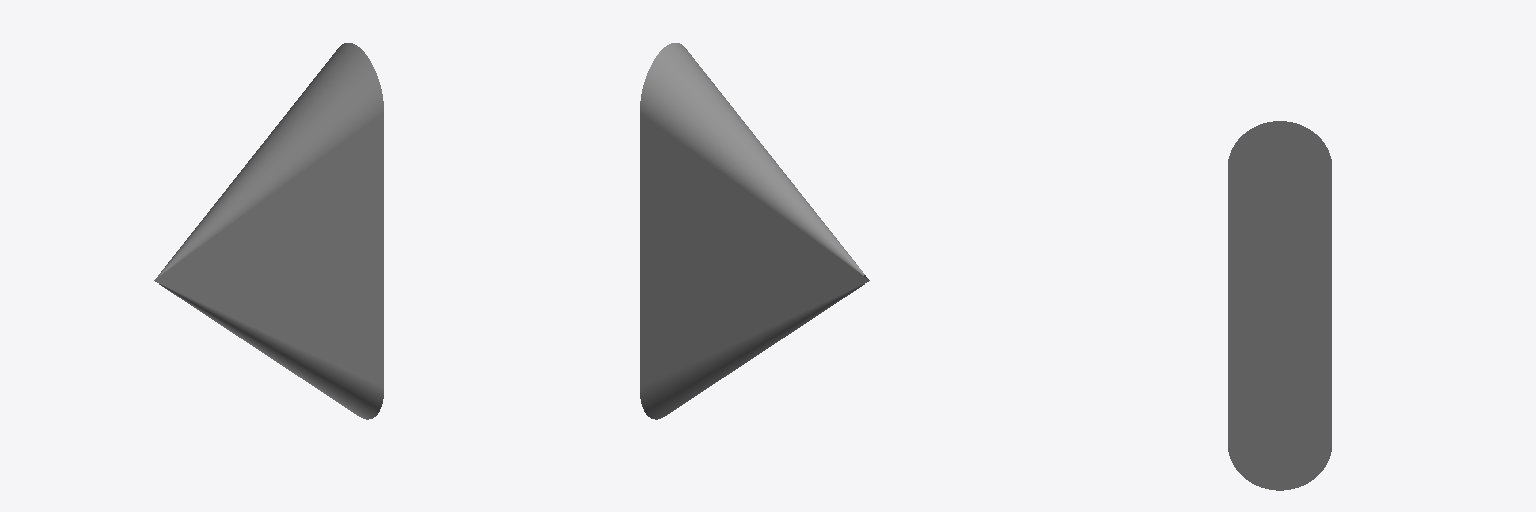
The model's file is horizon-fov.obj.
3 views of the same model, side by side, from view 1: azimuth 30°, elevation 25°; view 2: azimuth 150°, elevation 25°; view 3: azimuth 270°, elevation 25° (orthographic).
Visible parts, largest first — view 1: NONE; view 2: NONE; view 3: NONE.
Part boxes in pixels (left/top/right/bottom): NONE: left=154, top=43, right=383, bottom=419; NONE: left=640, top=43, right=869, bottom=419; NONE: left=1228, top=121, right=1331, bottom=490.
Bounding box in the file's own units: 10618 × 18363 × 4728.